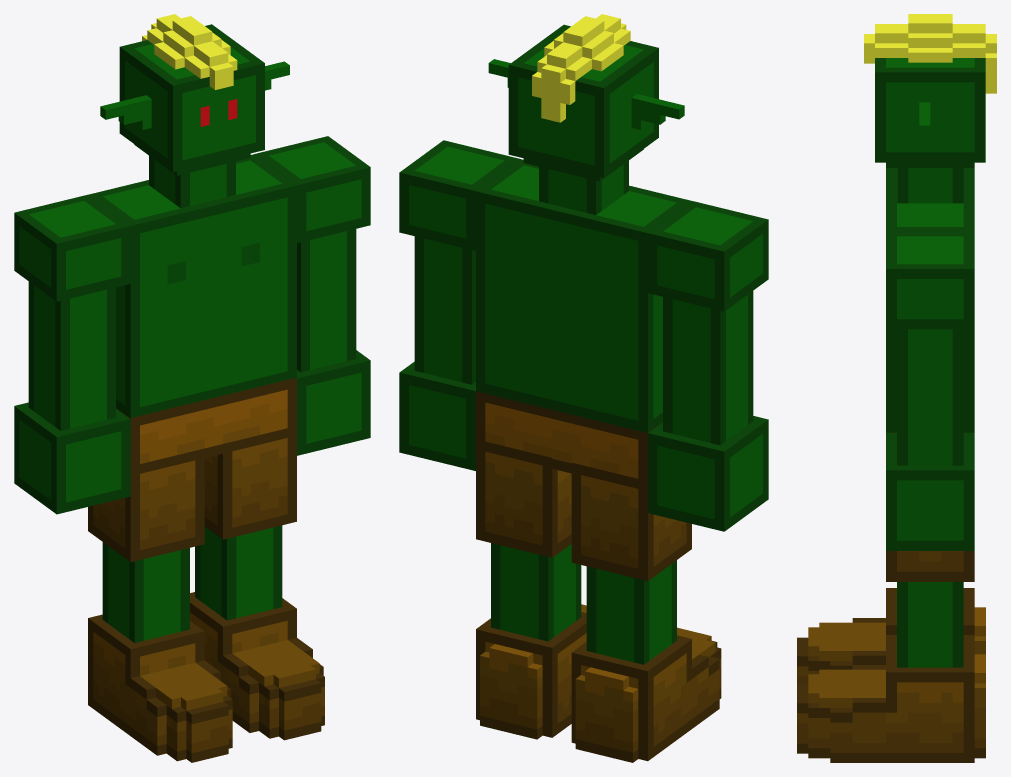
The model's file is Goblin.fbx.
3 renders of one model, left to right at view 1: azimuth 30°, elevation 25°; view 2: azimuth 150°, elevation 25°; view 3: azimuth 270°, elevation 25°, orthographic. The views are drawn at different scales.
Parts seen in each view (by area): view 1: Goblin Torso, Goblin Arm-Right, Goblin Foot-Right, Goblin Foot-Left, Goblin Head, Goblin Arm-Left, Goblin Waist; view 2: Goblin Torso, Goblin Arm-Right, Goblin Foot-Right, Goblin Foot-Left, Goblin Head, Goblin Arm-Left, Goblin Waist; view 3: Goblin Foot-Left, Goblin Arm-Left, Goblin Head, Goblin Foot-Right, Goblin Torso.
Boxes of the visible parts, left/top/right/bottom form: Goblin Torso: left=88, top=154, right=296, bottom=417; Goblin Arm-Right: left=14, top=194, right=130, bottom=514; Goblin Foot-Right: left=88, top=458, right=232, bottom=762; Goblin Foot-Left: left=190, top=435, right=324, bottom=740; Goblin Head: left=100, top=14, right=289, bottom=208; Goblin Arm-Left: left=254, top=136, right=370, bottom=455; Goblin Waist: left=116, top=377, right=296, bottom=475; Goblin Torso: left=476, top=159, right=691, bottom=432; Goblin Arm-Right: left=648, top=201, right=768, bottom=531; Goblin Foot-Right: left=571, top=463, right=721, bottom=762; Goblin Foot-Left: left=476, top=439, right=586, bottom=739; Goblin Head: left=488, top=14, right=684, bottom=214; Goblin Arm-Left: left=399, top=140, right=519, bottom=470; Goblin Waist: left=476, top=391, right=658, bottom=480; Goblin Foot-Left: left=797, top=551, right=985, bottom=762; Goblin Arm-Left: left=886, top=231, right=974, bottom=550; Goblin Head: left=864, top=14, right=996, bottom=203; Goblin Foot-Right: left=797, top=588, right=985, bottom=684; Goblin Torso: left=886, top=168, right=974, bottom=432.
Bounding box in the file's own units: 0.5536 × 0.293 × 1.14.
Materials: 1 (1 with a texture image).
